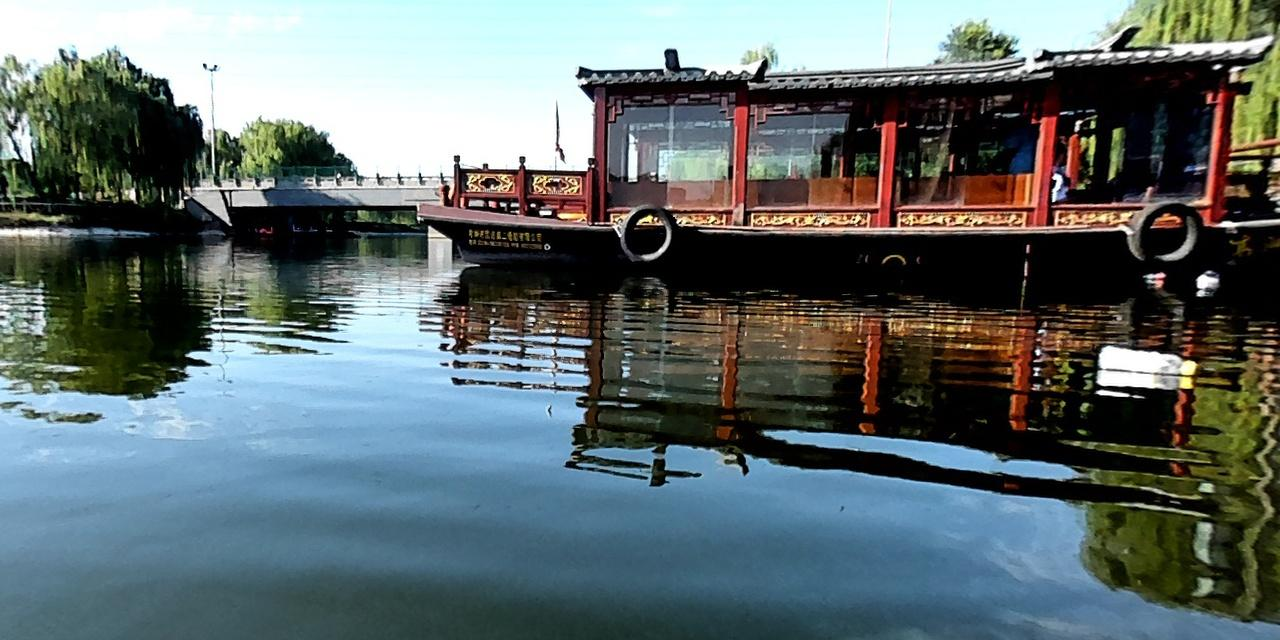bottle: (1097, 344, 1197, 374), (1195, 270, 1219, 289), (1141, 271, 1166, 278)
